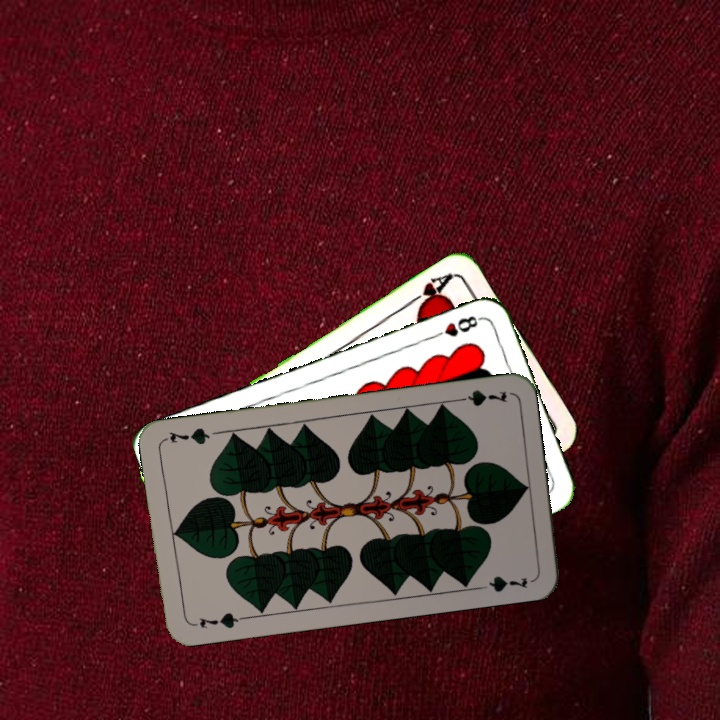G7: (451, 385, 510, 409), (195, 608, 247, 632)
H8: (427, 311, 484, 342)
HA: (403, 268, 456, 315)
